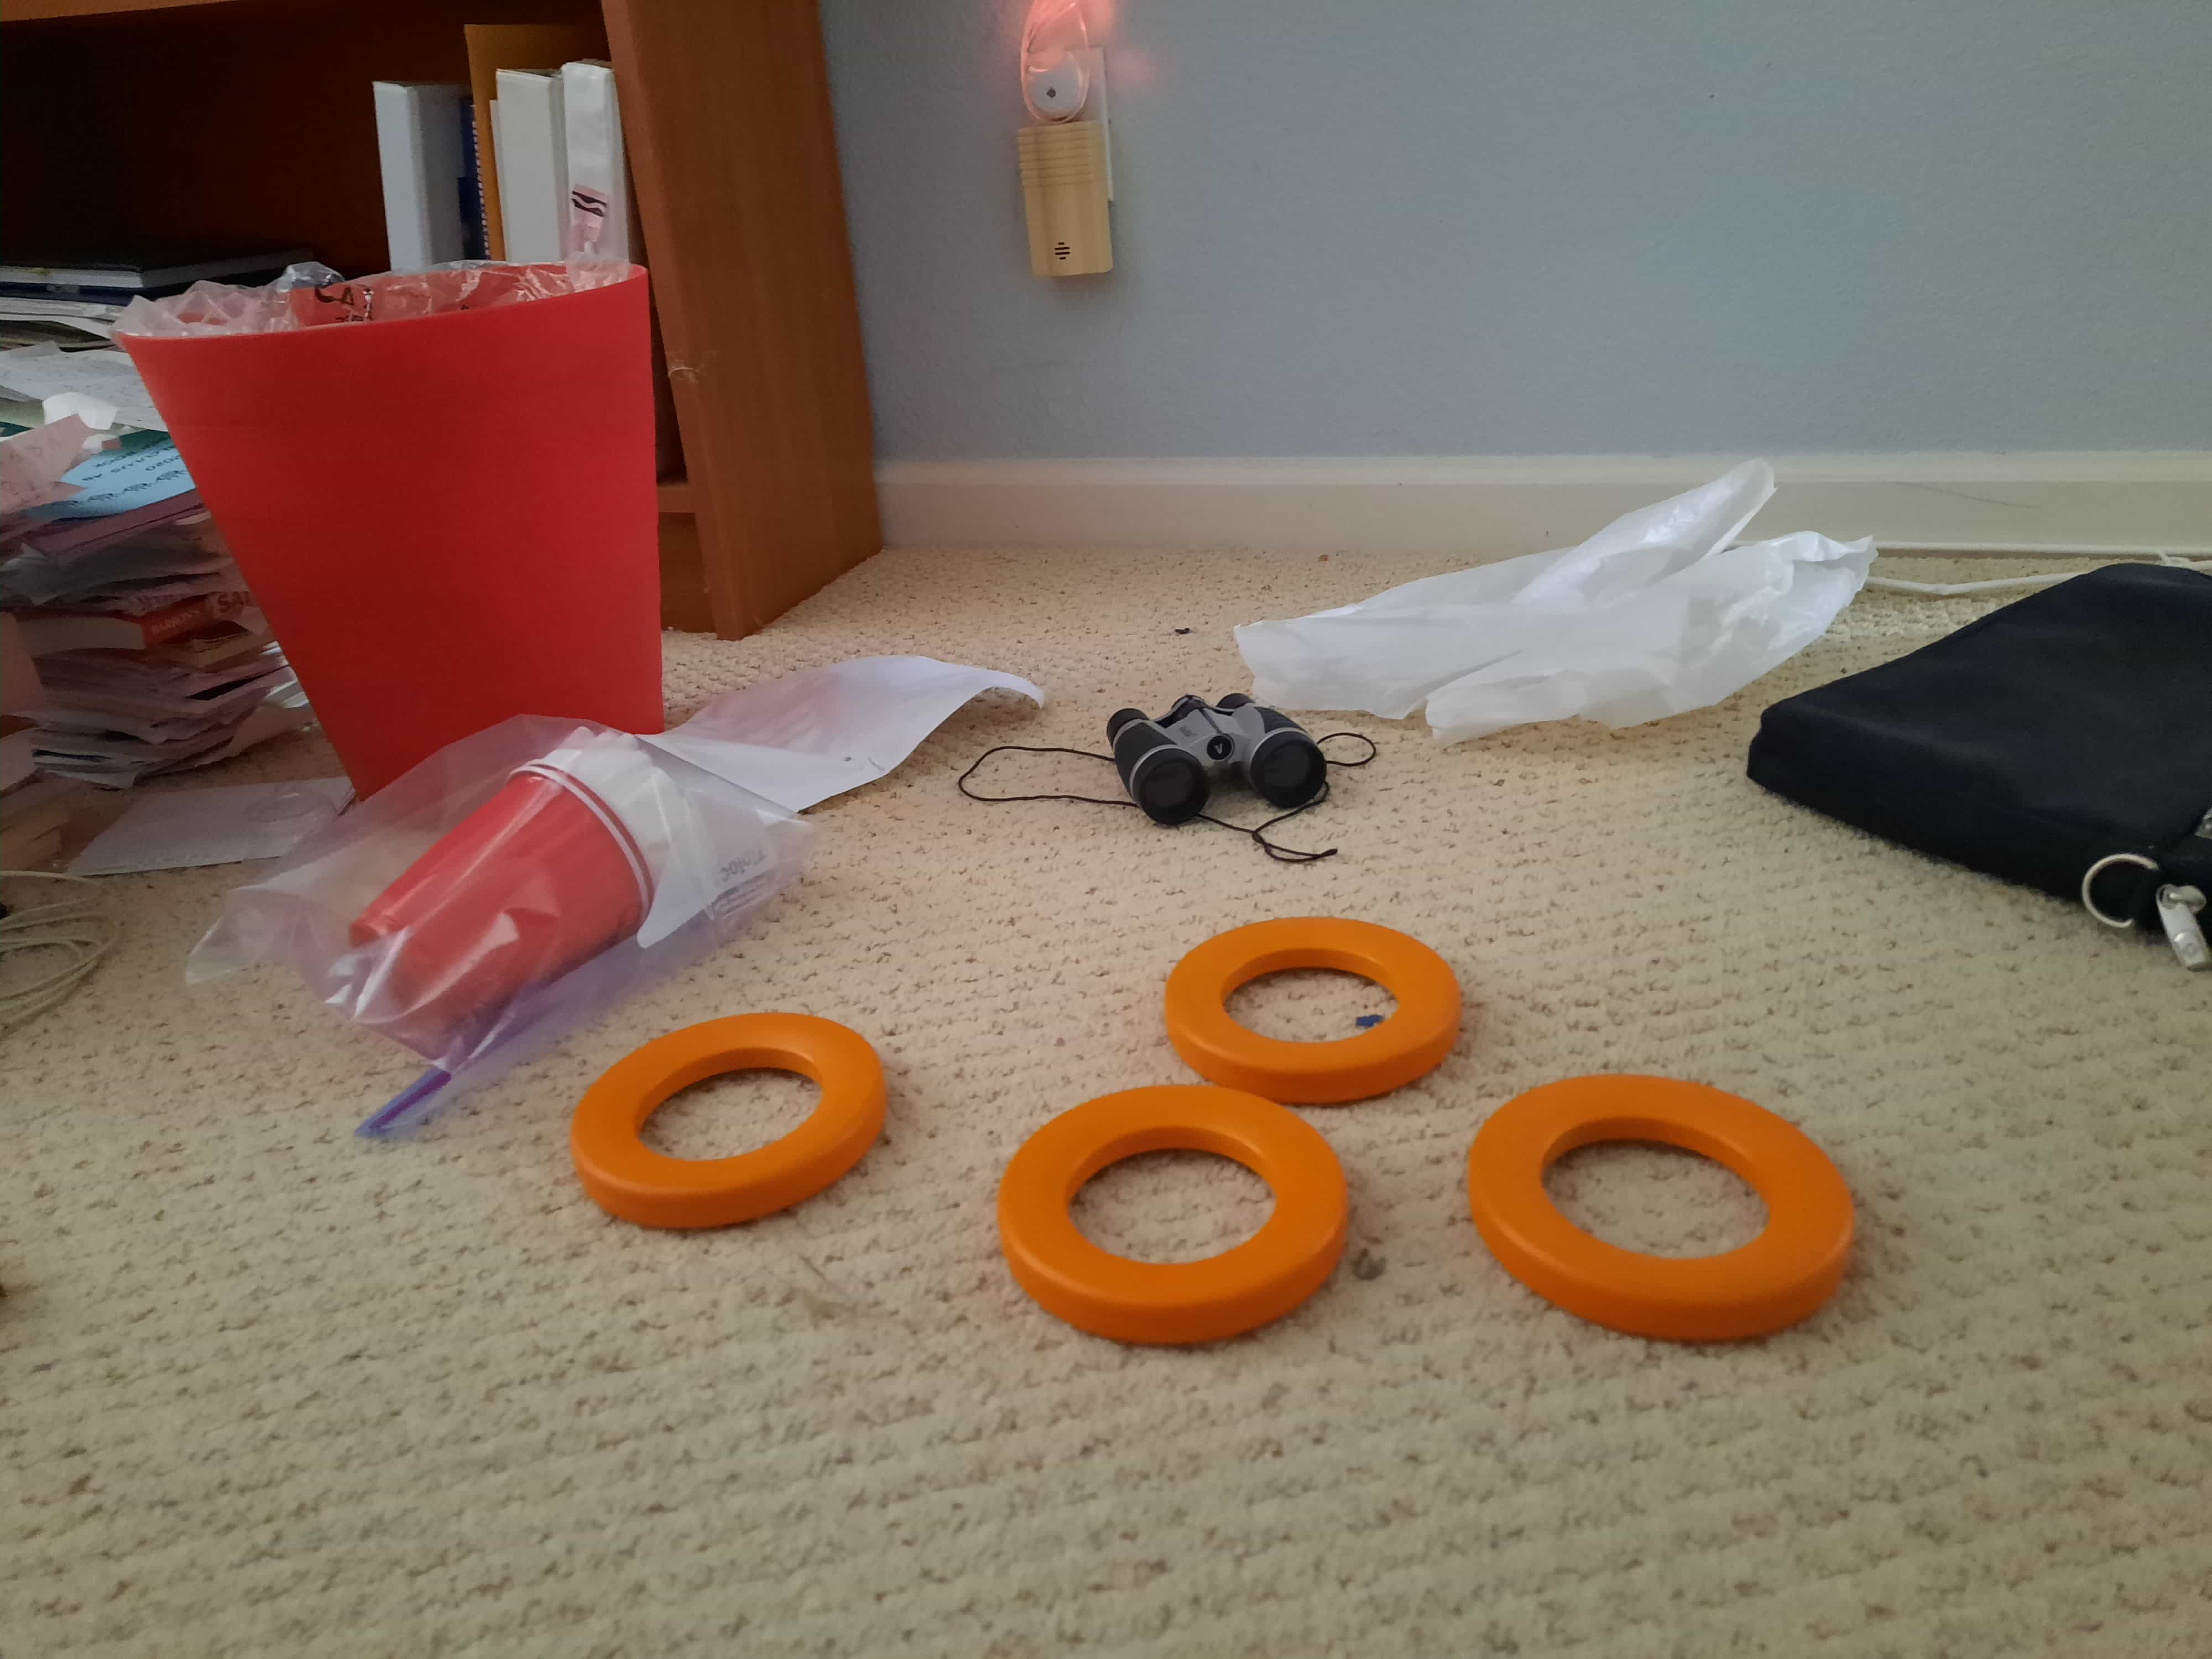OneStack: (1474, 1073, 1858, 1331), (1003, 1087, 1352, 1324), (577, 1014, 885, 1225), (1165, 915, 1461, 1087)
